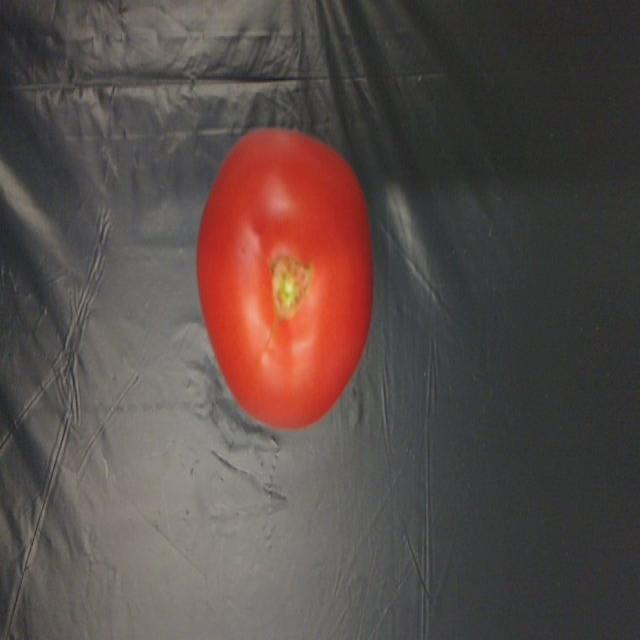kirmizi: (164, 137, 390, 444)
